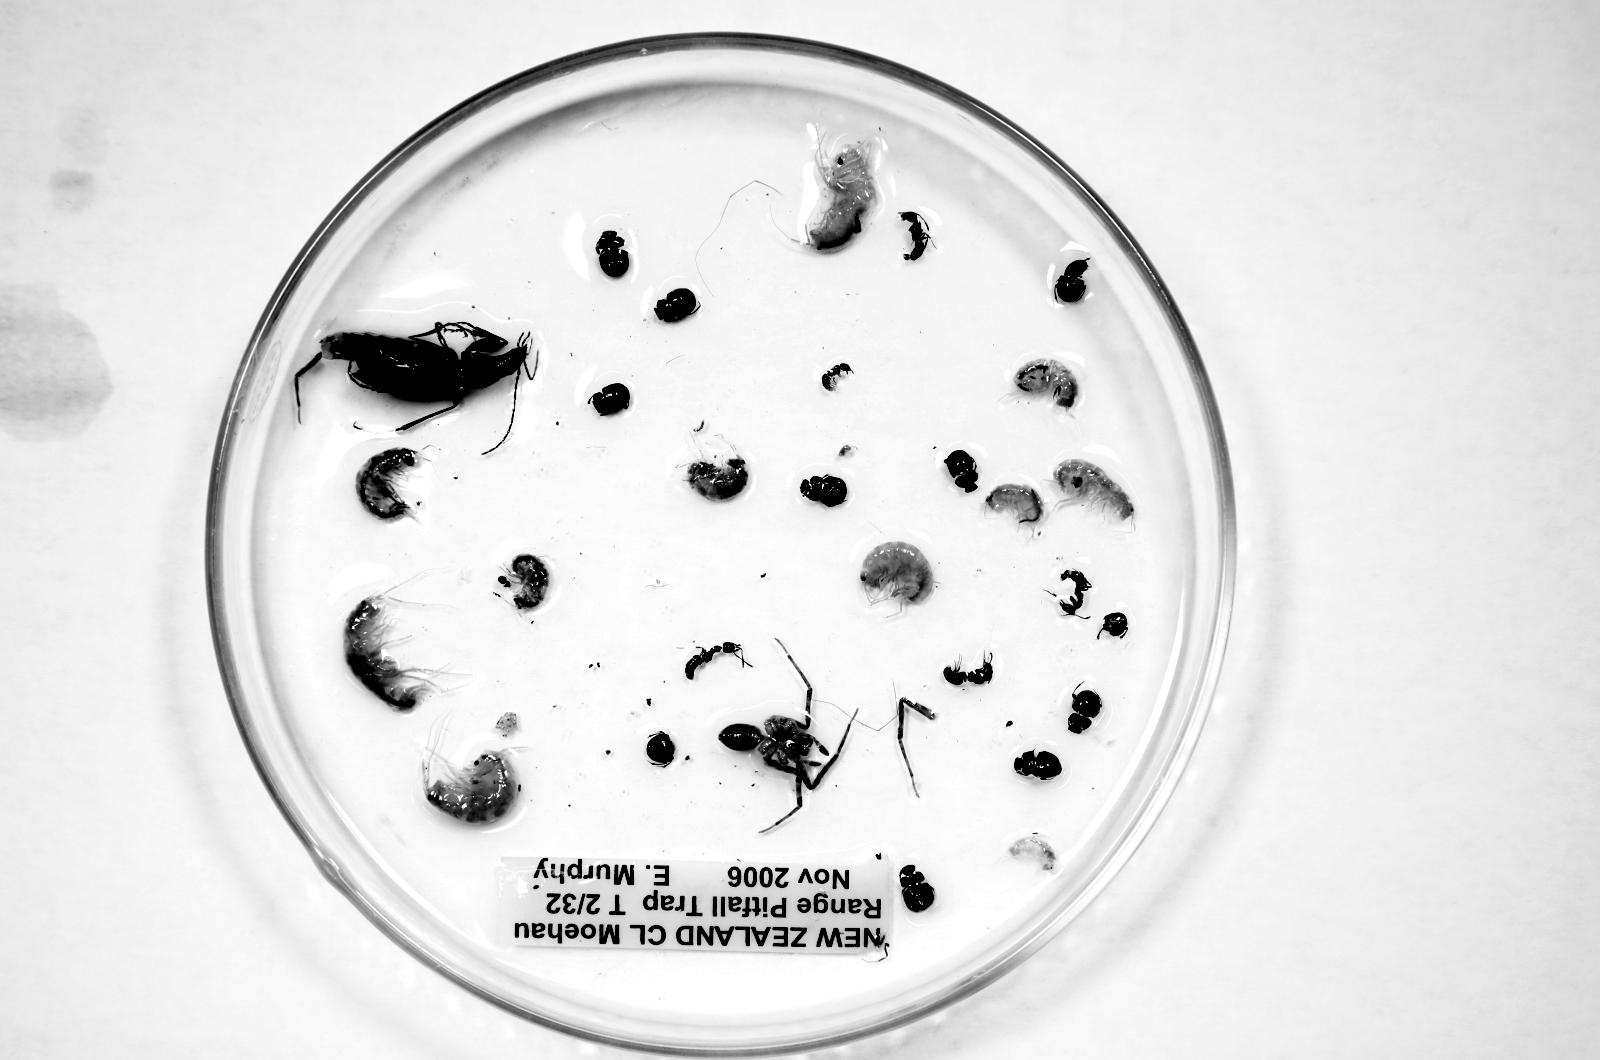amphipoda: (344, 593, 454, 711), (806, 141, 879, 249), (422, 750, 520, 824), (357, 448, 430, 521), (1053, 459, 1133, 521), (860, 540, 934, 607), (1013, 358, 1079, 410), (686, 456, 749, 500), (985, 484, 1044, 526), (510, 553, 549, 610)
araneae: (719, 654, 850, 832)
carabidae: (296, 322, 529, 404)
coleoptera: (898, 864, 935, 912), (596, 230, 630, 277), (800, 474, 847, 507), (654, 288, 698, 322), (1067, 690, 1101, 734), (943, 450, 978, 492), (1055, 259, 1088, 303), (1014, 751, 1062, 780), (590, 383, 631, 416)
formicidae: (684, 641, 752, 680), (943, 652, 993, 685), (899, 211, 931, 261), (1059, 570, 1091, 615), (821, 363, 853, 391)
